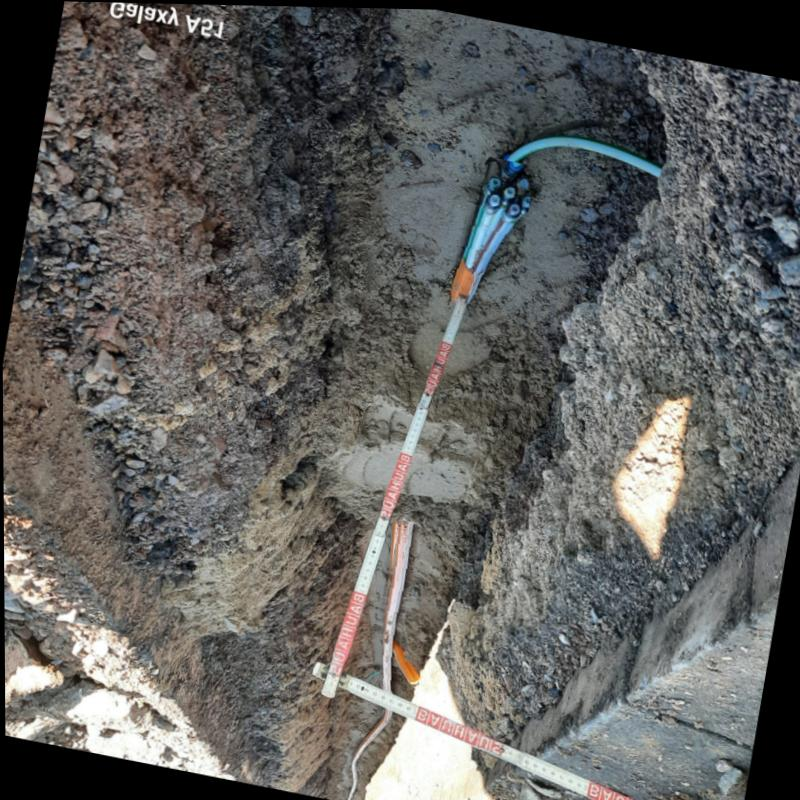Orang-Speednetrohrchen: (451, 159, 532, 301), (382, 520, 411, 690)
